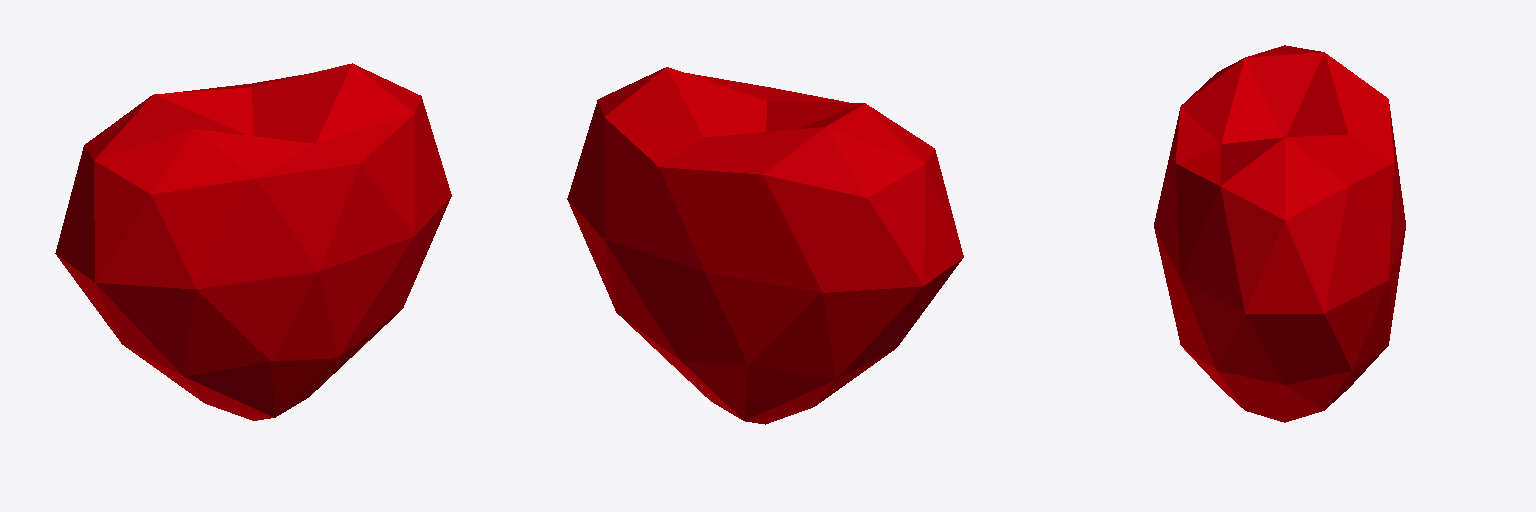
Rendered from corazon.obj.
The picture shows the model from 3 angles: view 1: azimuth 30°, elevation 25°; view 2: azimuth 150°, elevation 25°; view 3: azimuth 270°, elevation 25°; orthographic projection.
Parts seen in each view (by area): view 1: Icosphere; view 2: Icosphere; view 3: Icosphere.
Part boxes in pixels (x1,y1,x2,y2): Icosphere: (55, 63, 451, 420); Icosphere: (567, 67, 963, 424); Icosphere: (1154, 45, 1405, 422).
Size of the model in its own units: 1.9 by 1.7 by 1.17.